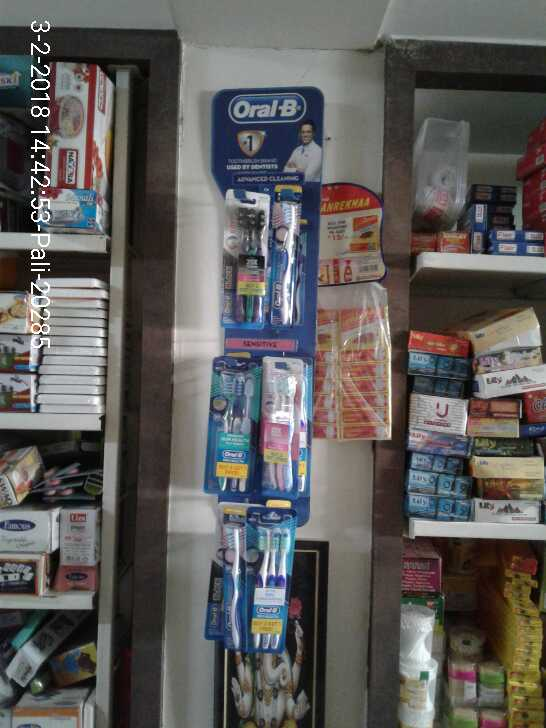oralb: (218, 186, 268, 329), (206, 353, 256, 495), (246, 509, 291, 654), (263, 355, 298, 497), (268, 182, 300, 330), (218, 510, 245, 653)
